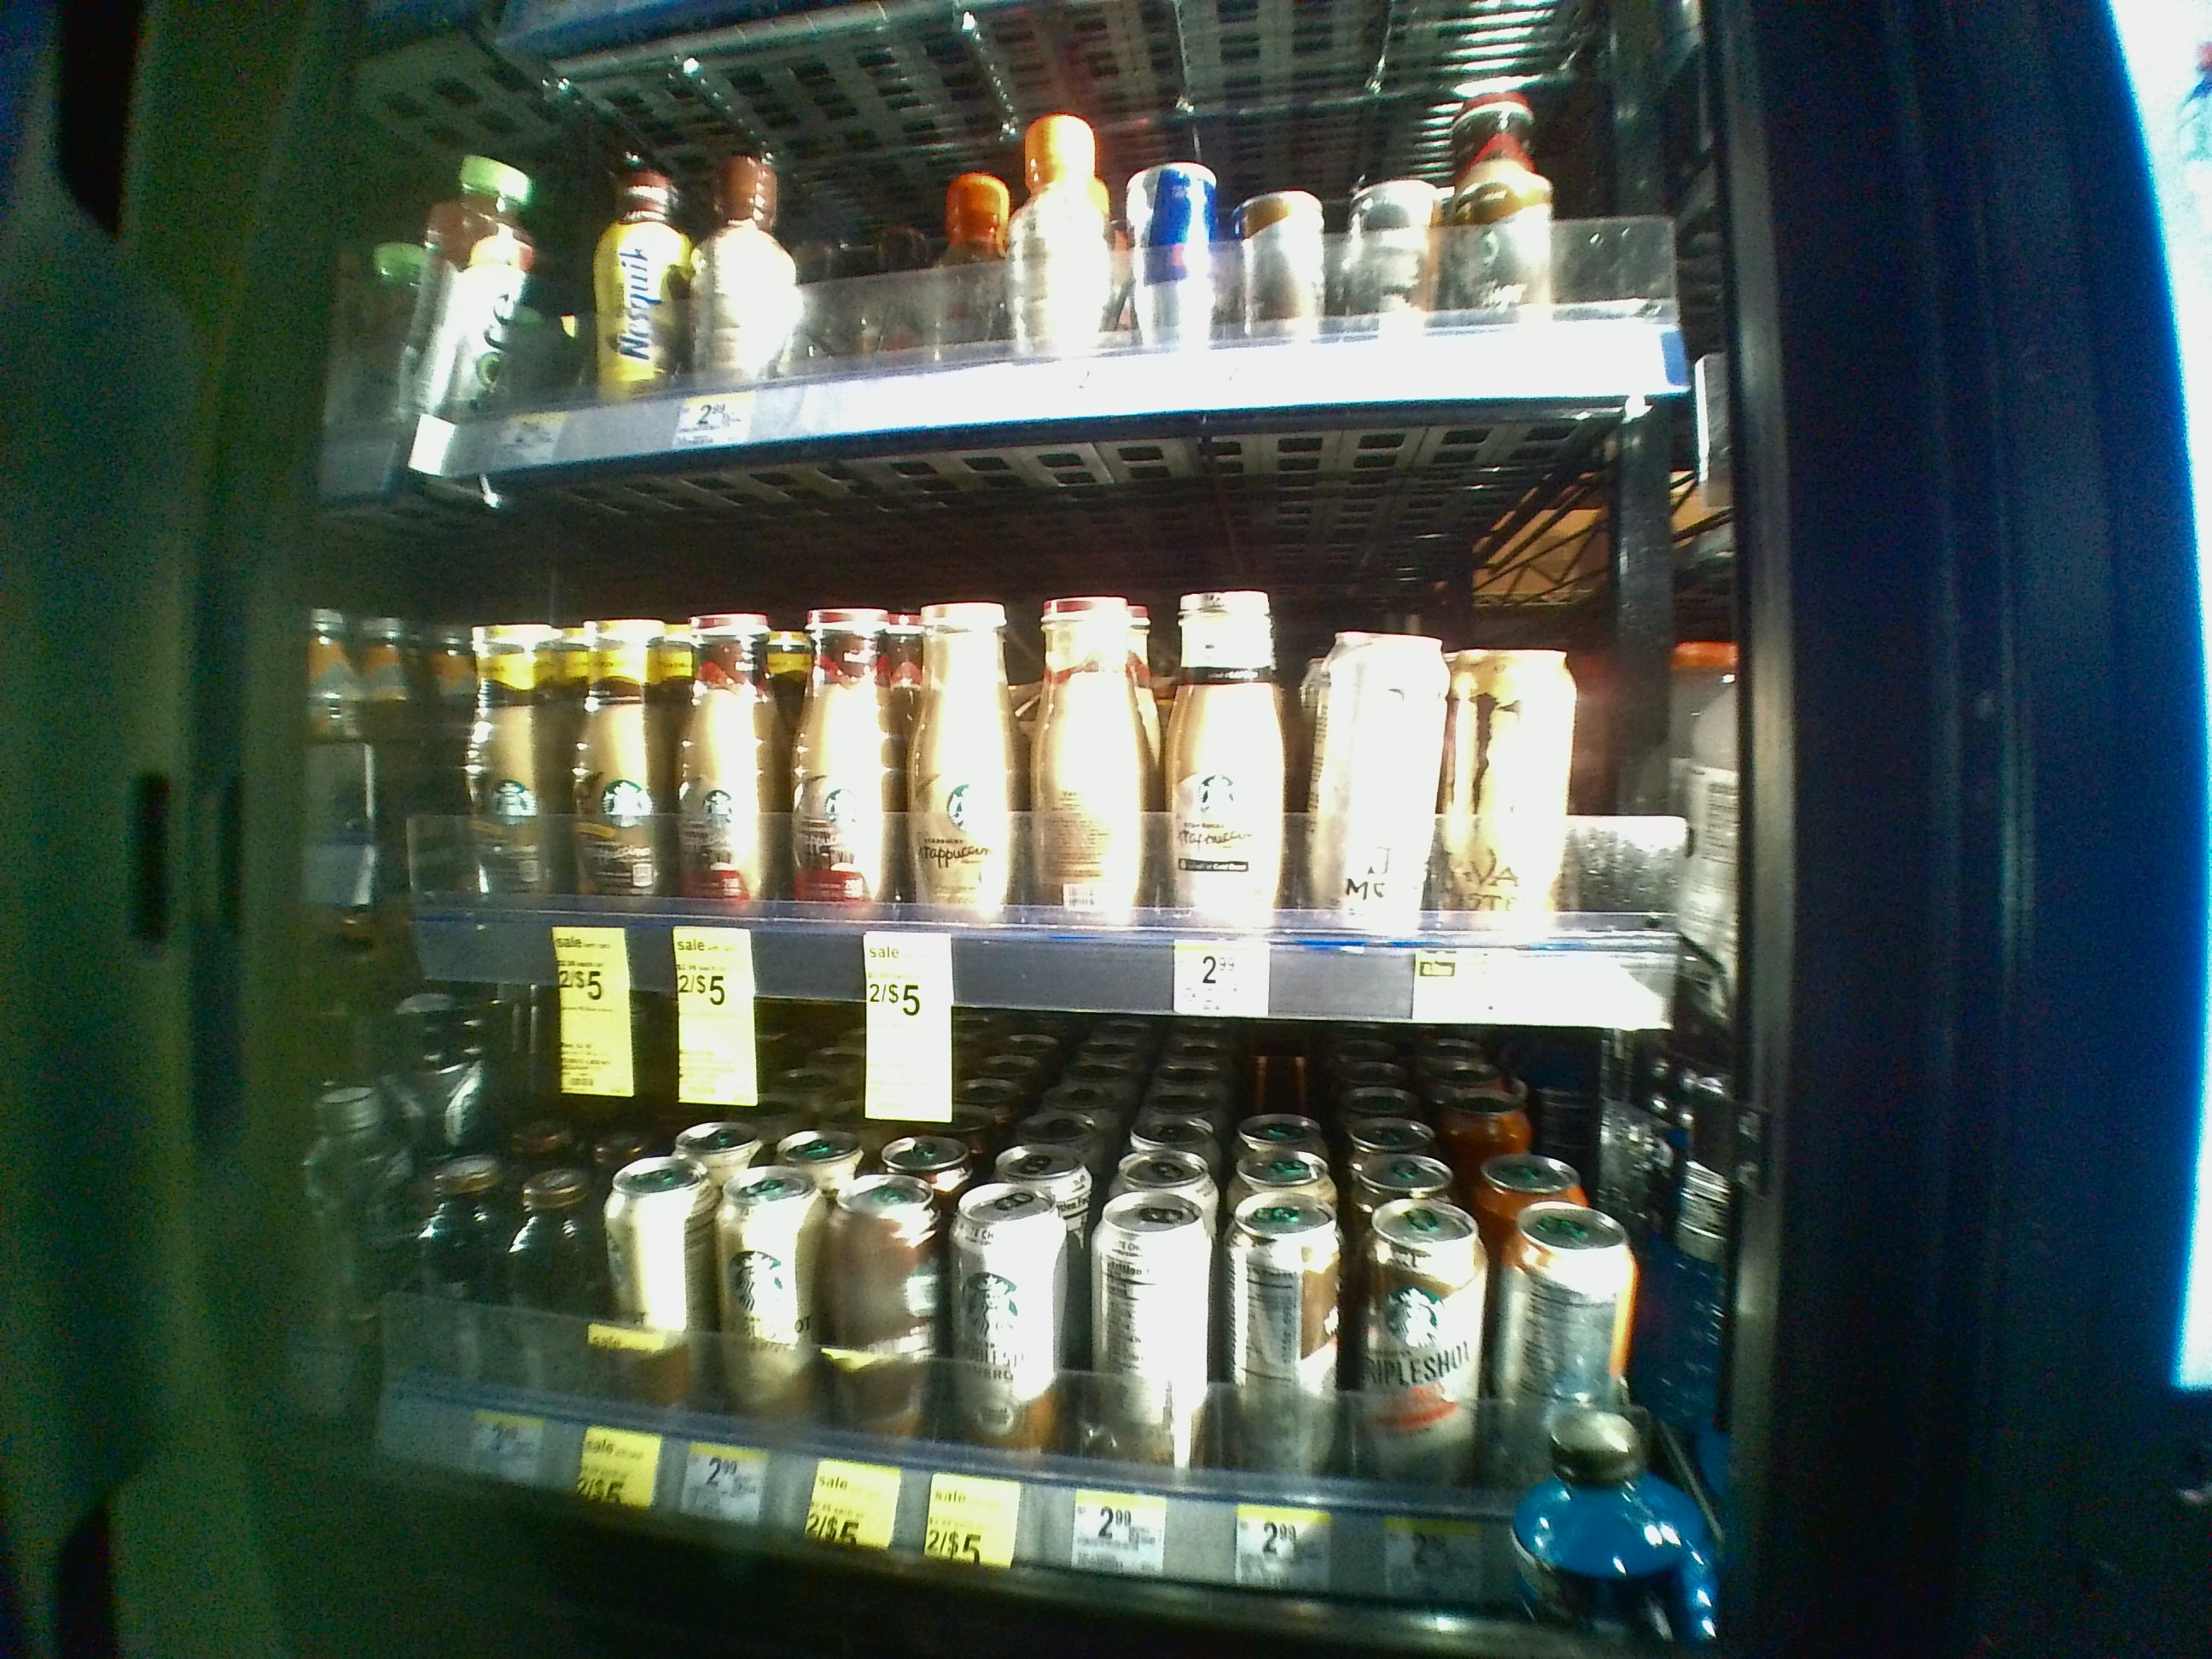shelf: (314, 457, 1756, 1023)
